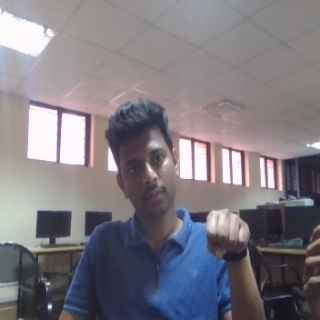Face: (106, 101, 181, 218)
Yes: (204, 207, 253, 269)
